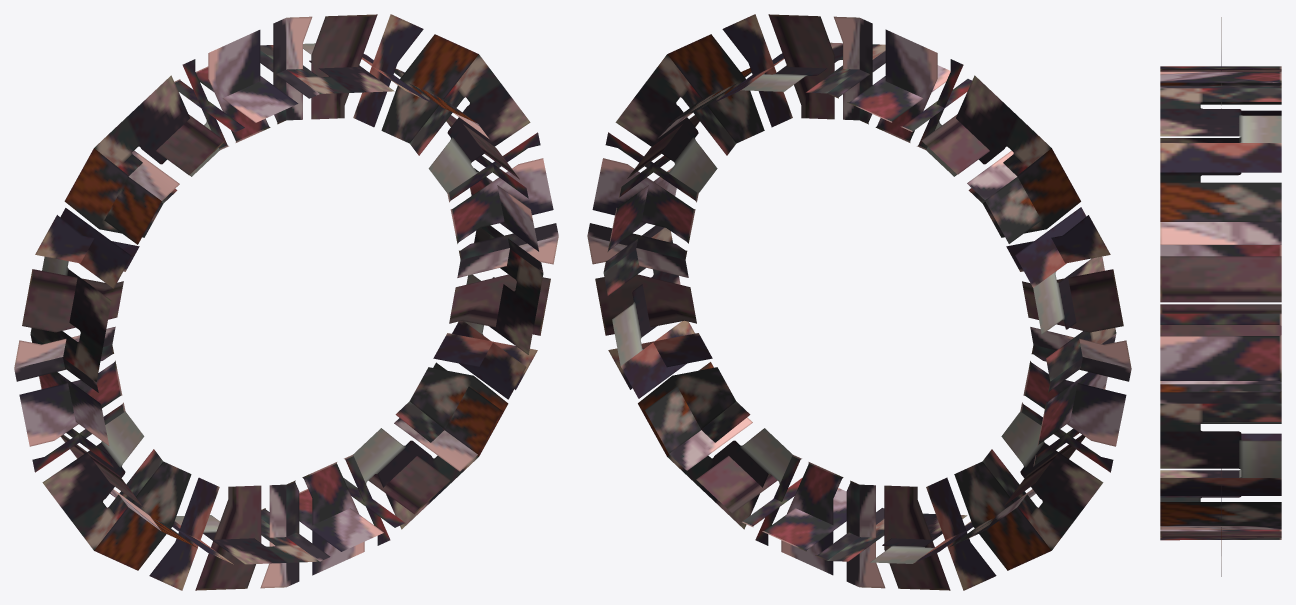
The picture shows the model from 3 angles, left to right: view 1: azimuth 30°, elevation 25°; view 2: azimuth 150°, elevation 25°; view 3: azimuth 270°, elevation 25°; orthographic projection. The views are drawn at different scales.
Parts seen in each view (by area): view 1: T1L2M009_25; view 2: T1L2M009_25; view 3: T1L2M009_25.
Boxes of the visible parts, left/top/right/bottom form: T1L2M009_25: left=14, top=14, right=558, bottom=590; T1L2M009_25: left=587, top=14, right=1131, bottom=590; T1L2M009_25: left=1160, top=17, right=1281, bottom=576.
Size of the model in its own units: 2.83 by 2.83 by 0.5957.
